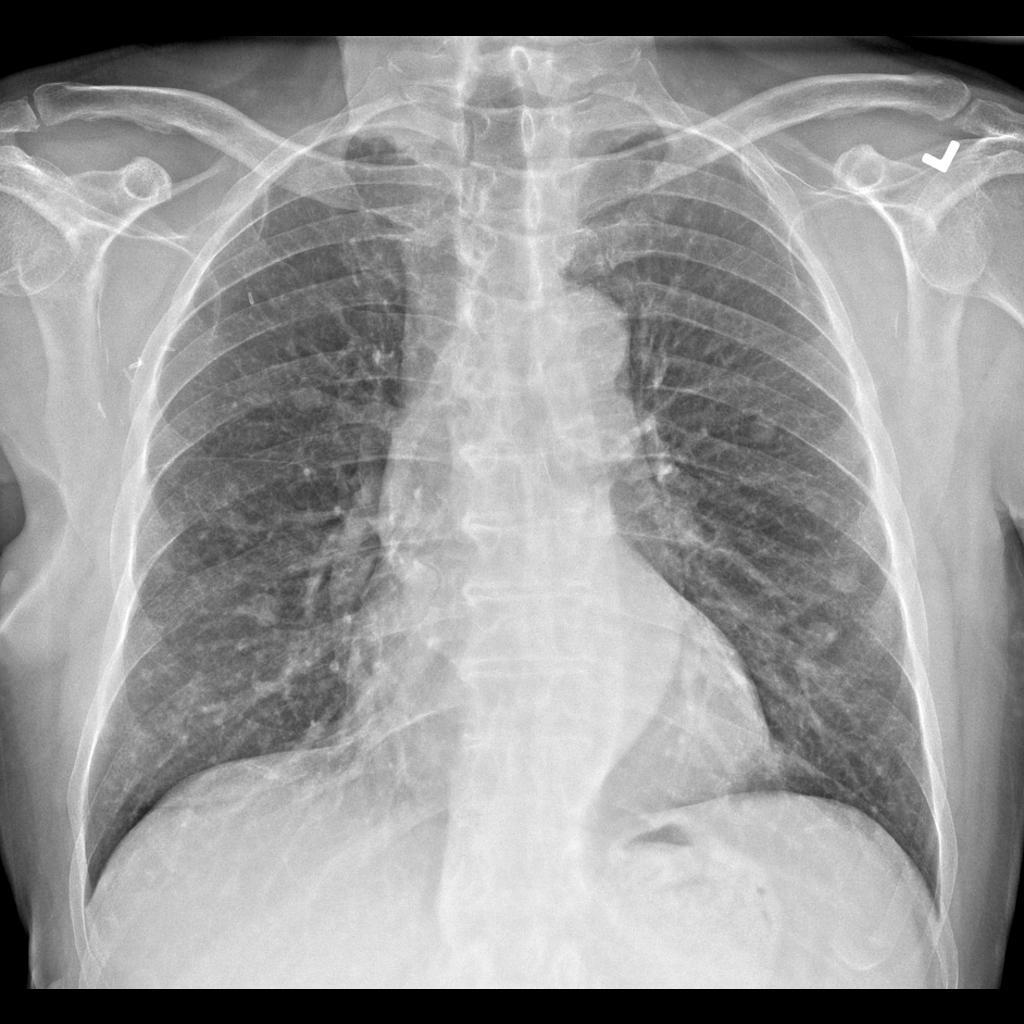Nodule: (280, 379, 329, 425), (822, 553, 866, 599), (807, 618, 849, 662)
